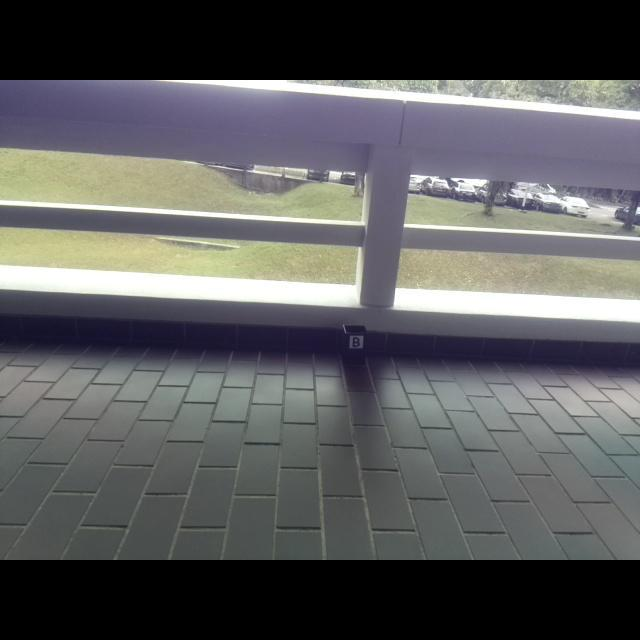B: (351, 336, 362, 349)
